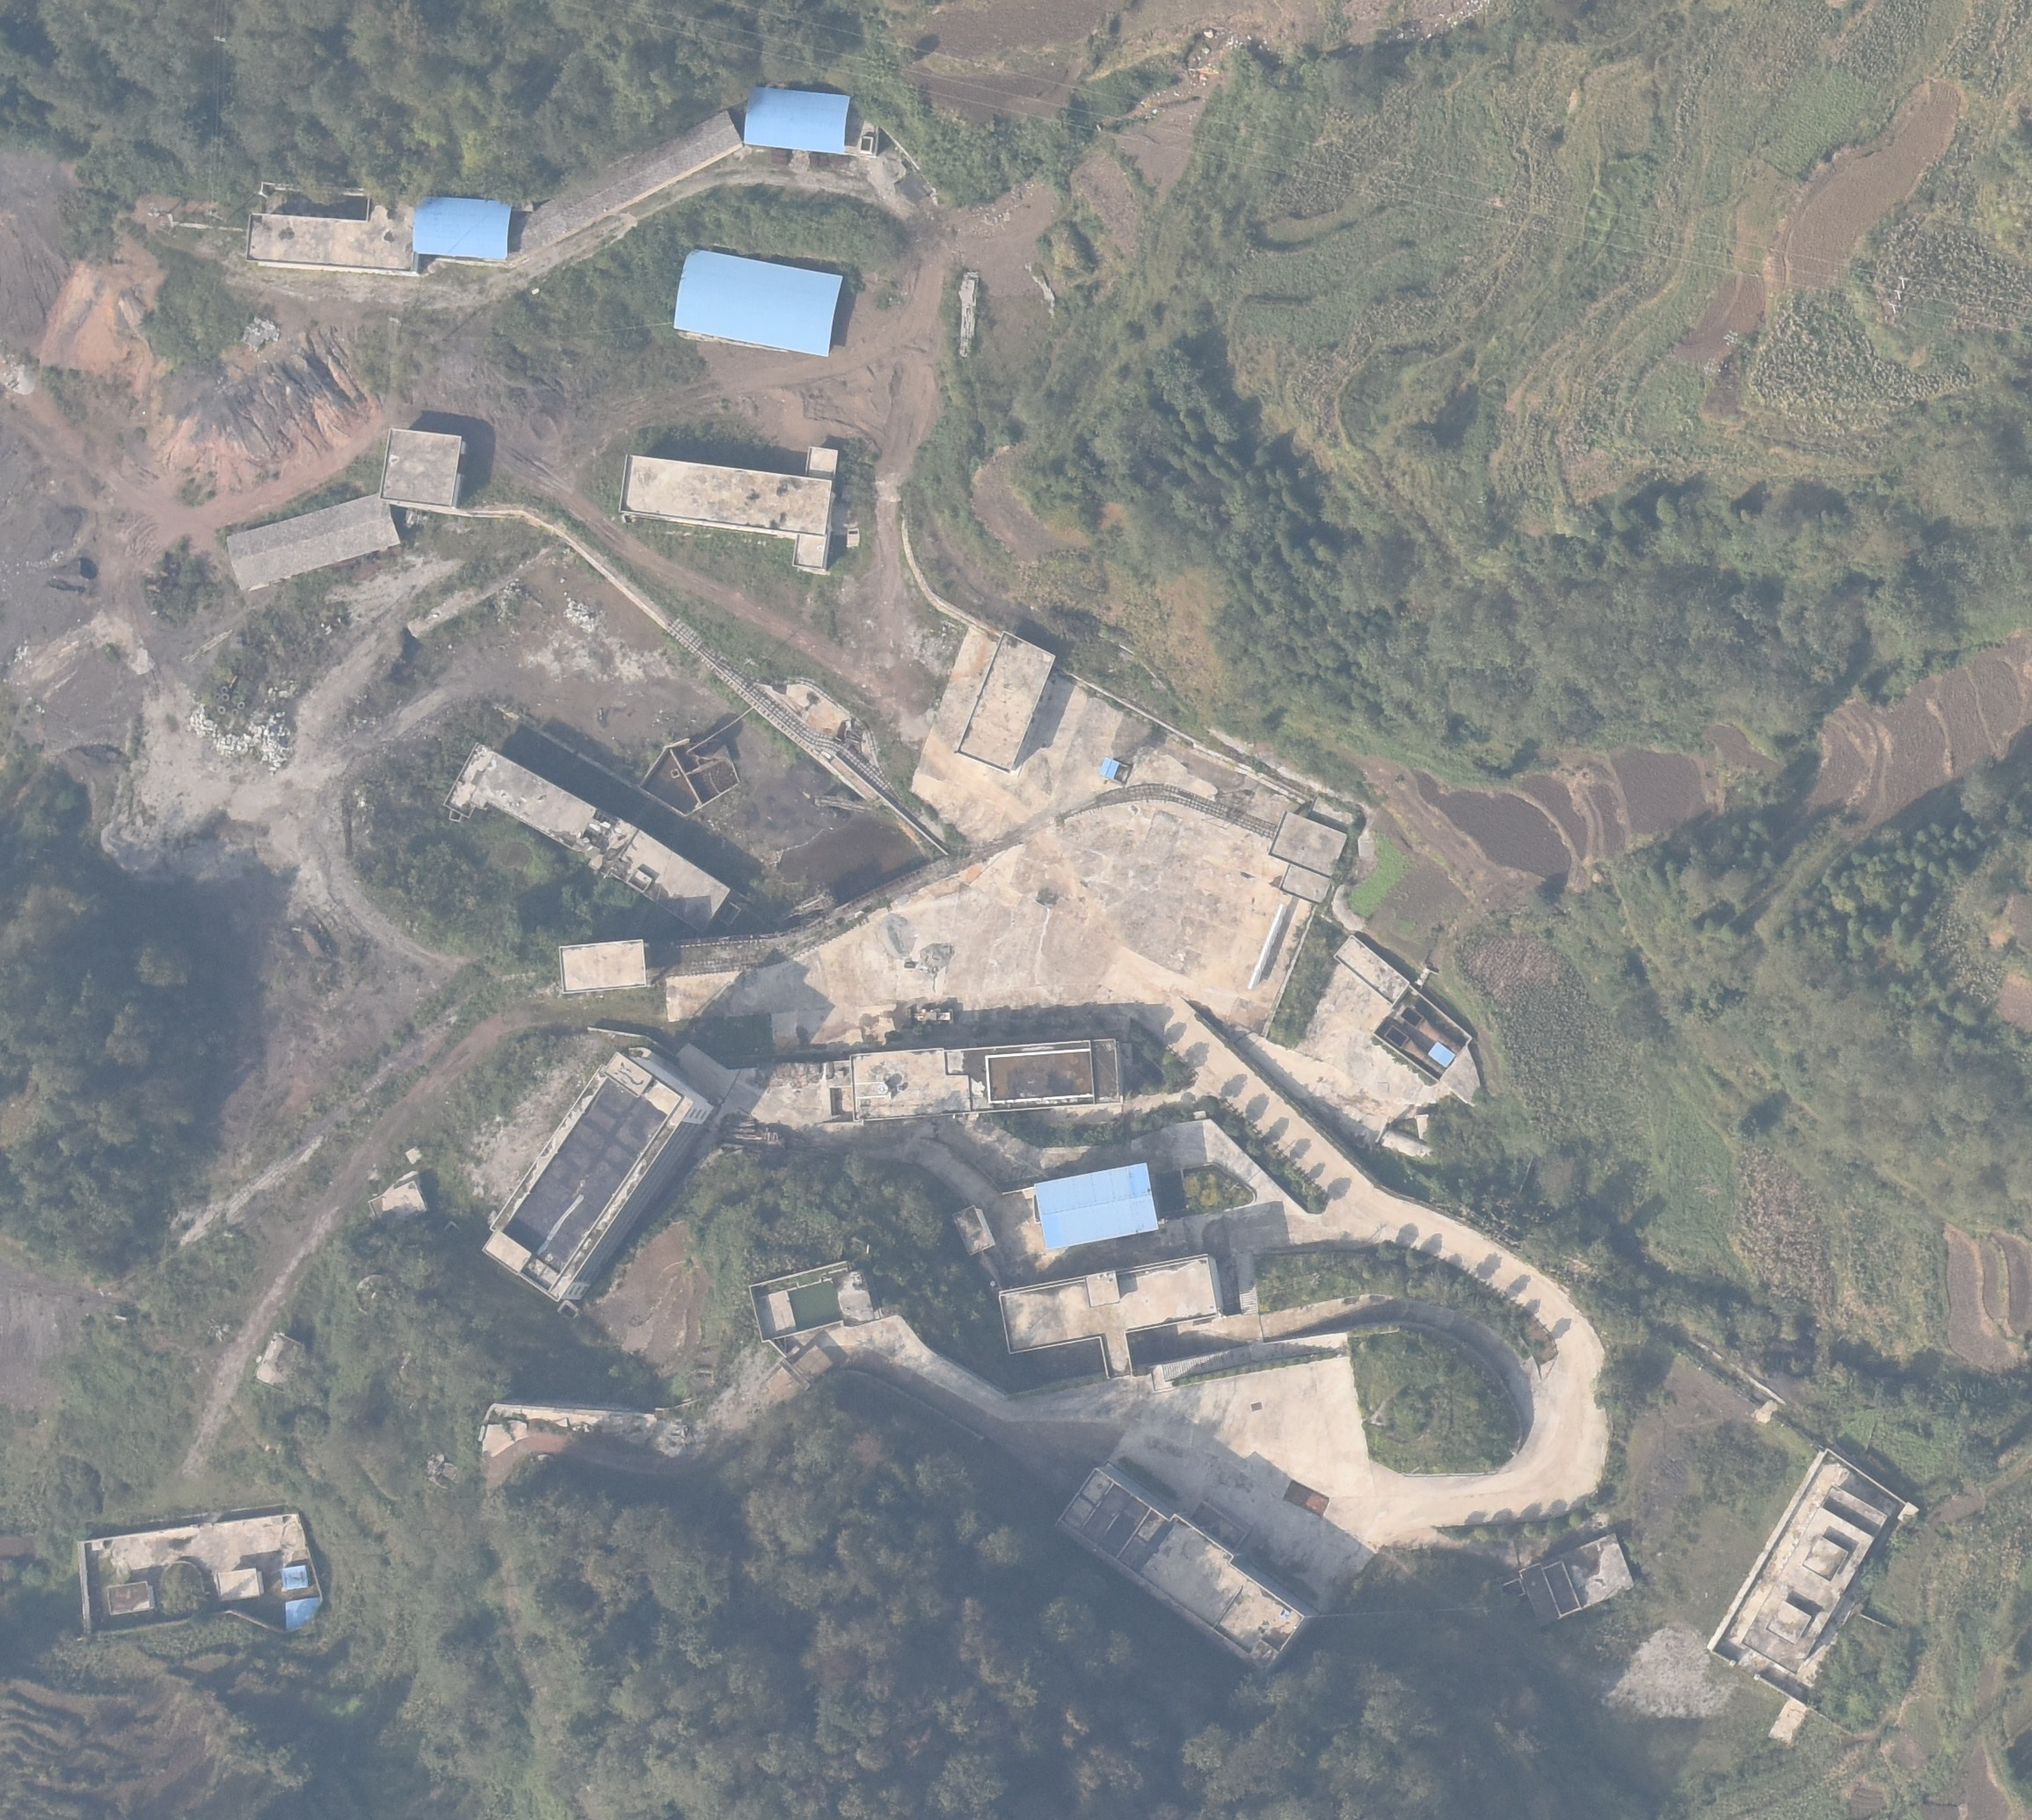building: (1043, 1444, 1321, 1683), (483, 1035, 706, 1323), (441, 733, 738, 922), (611, 430, 852, 589), (980, 1249, 1229, 1374), (1740, 1483, 1884, 1662), (940, 1028, 1156, 1119), (232, 492, 406, 596), (945, 627, 1061, 780), (1500, 1527, 1637, 1629), (376, 422, 474, 518), (1268, 810, 1349, 901), (1328, 931, 1416, 1007), (555, 933, 653, 998), (355, 1175, 437, 1221), (102, 1581, 156, 1616), (214, 1567, 263, 1600)
pool: (746, 1253, 896, 1346)
prefabricated-house: (671, 239, 843, 374), (1015, 1158, 1156, 1249), (736, 70, 859, 167), (411, 170, 515, 276), (950, 1203, 992, 1254), (283, 1597, 320, 1629), (1423, 1038, 1456, 1070), (281, 1564, 309, 1592)
